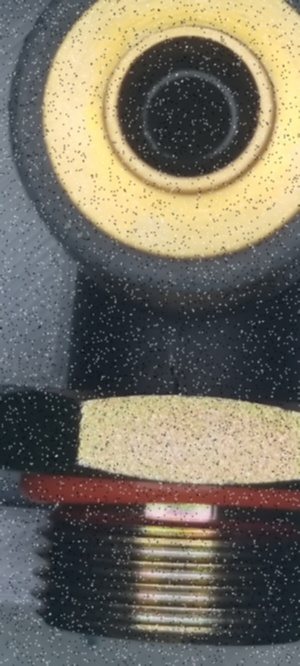craze: (167, 364, 185, 403)
